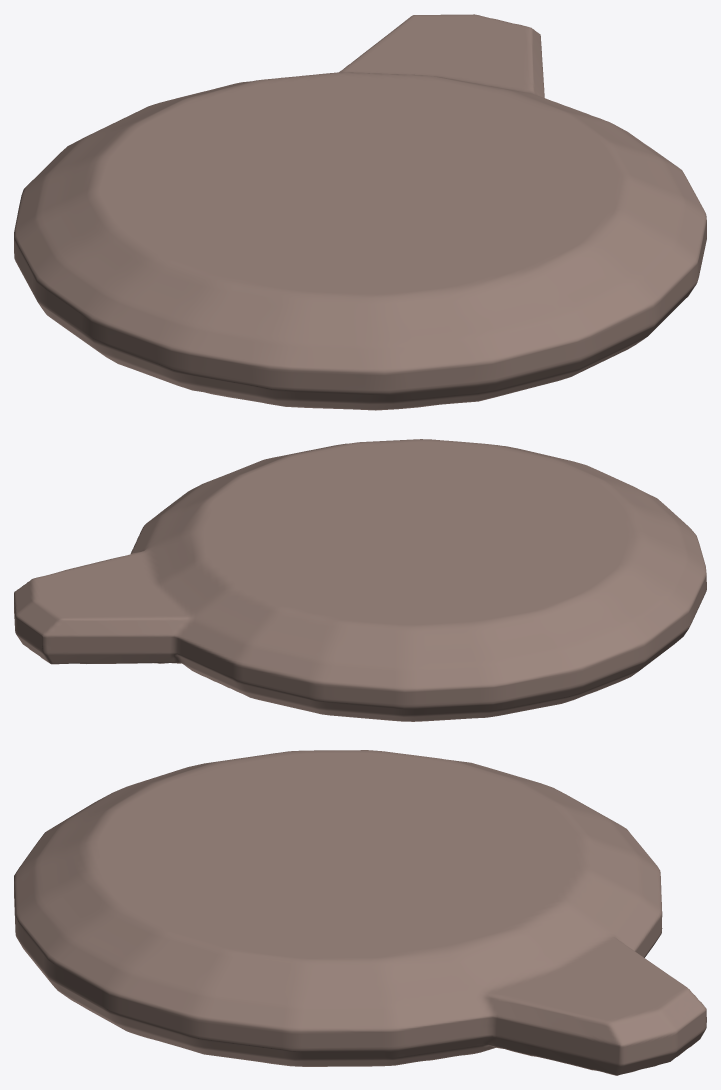
File: pumpkinCookie.fbx
The picture shows the model from 3 angles, top to bottom: view 1: azimuth 30°, elevation 25°; view 2: azimuth 150°, elevation 25°; view 3: azimuth 270°, elevation 25°; orthographic projection. The views are drawn at different scales.
Visible parts, largest first — view 1: SugarCookiePumpkin8; view 2: SugarCookiePumpkin8; view 3: SugarCookiePumpkin8.
Part boxes in pixels (x1,y1,x2,y2): SugarCookiePumpkin8: [14, 14, 706, 410]; SugarCookiePumpkin8: [14, 439, 706, 721]; SugarCookiePumpkin8: [14, 750, 706, 1075].
Size of the model in its own units: 44.76 by 6.15 by 45.37.
